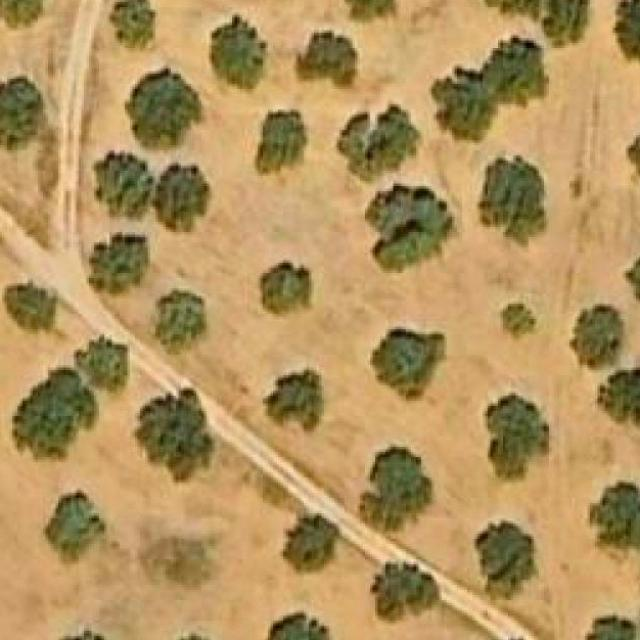Tree: (364, 184, 459, 276), (132, 388, 214, 484), (7, 370, 94, 457), (336, 102, 422, 184), (355, 446, 431, 534), (125, 66, 201, 148), (477, 156, 547, 242), (370, 327, 447, 402), (485, 394, 549, 478), (428, 69, 495, 145), (474, 518, 536, 600), (42, 491, 106, 567), (208, 15, 264, 97), (483, 35, 549, 104), (268, 368, 324, 440), (372, 559, 437, 621), (89, 232, 150, 297), (91, 150, 150, 217), (254, 109, 314, 174), (152, 288, 206, 358), (570, 304, 626, 370), (156, 164, 212, 230), (280, 513, 336, 575), (0, 77, 46, 151), (298, 31, 358, 87), (260, 261, 314, 317), (598, 365, 640, 431), (600, 483, 640, 547), (541, 0, 595, 44), (2, 283, 53, 329), (83, 339, 127, 388), (111, 0, 156, 46), (265, 610, 326, 640), (342, 0, 398, 28), (612, 0, 640, 53), (0, 0, 48, 30), (587, 615, 638, 640), (481, 0, 545, 19), (500, 304, 536, 337), (623, 257, 640, 311), (626, 125, 640, 181)
